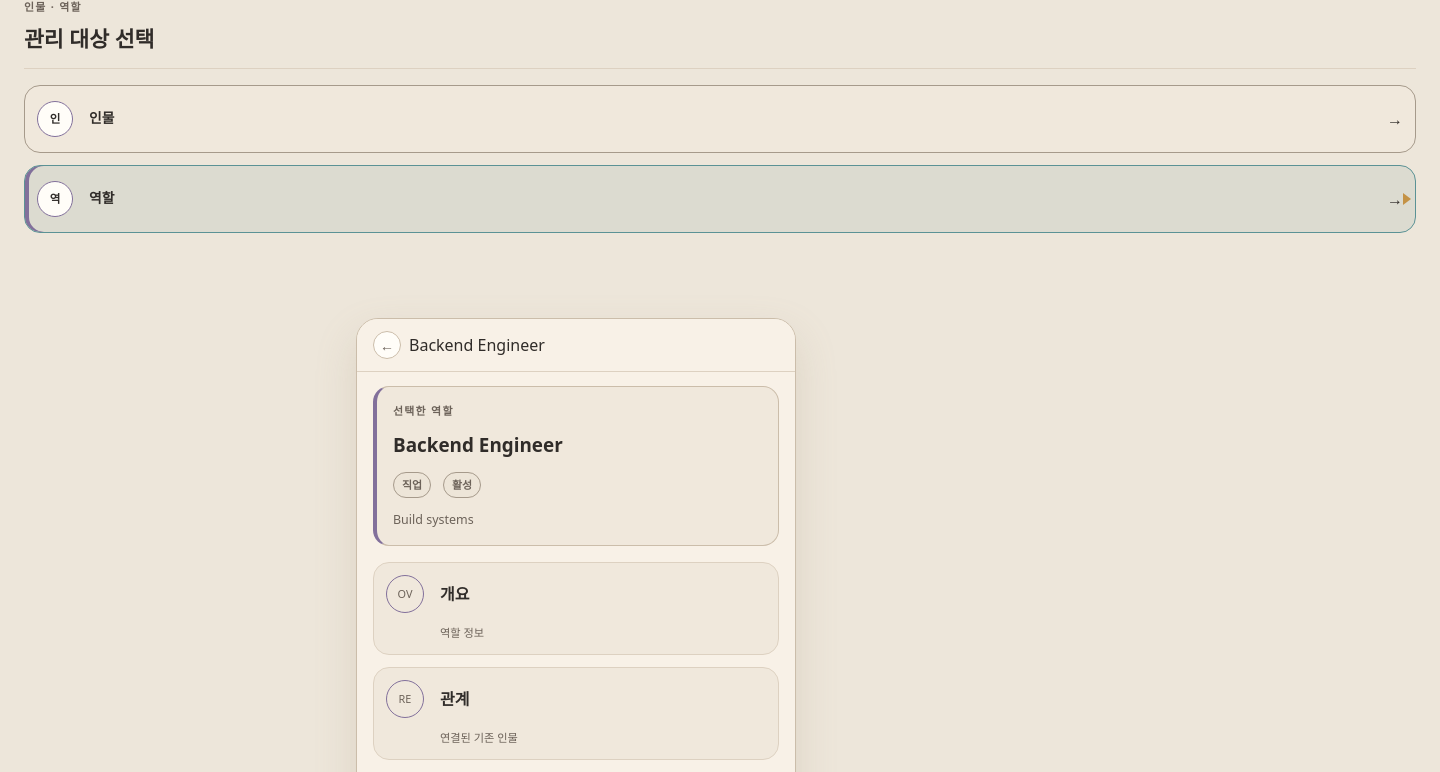
실제 Role shell을 사용할 때 › 개요·관계·일정 전환은 상위 frame을 유지하고 마지막 내용만 표시한다
Click the button "OV 개요 역할 정보": (405, 594) [373,562,779,655]
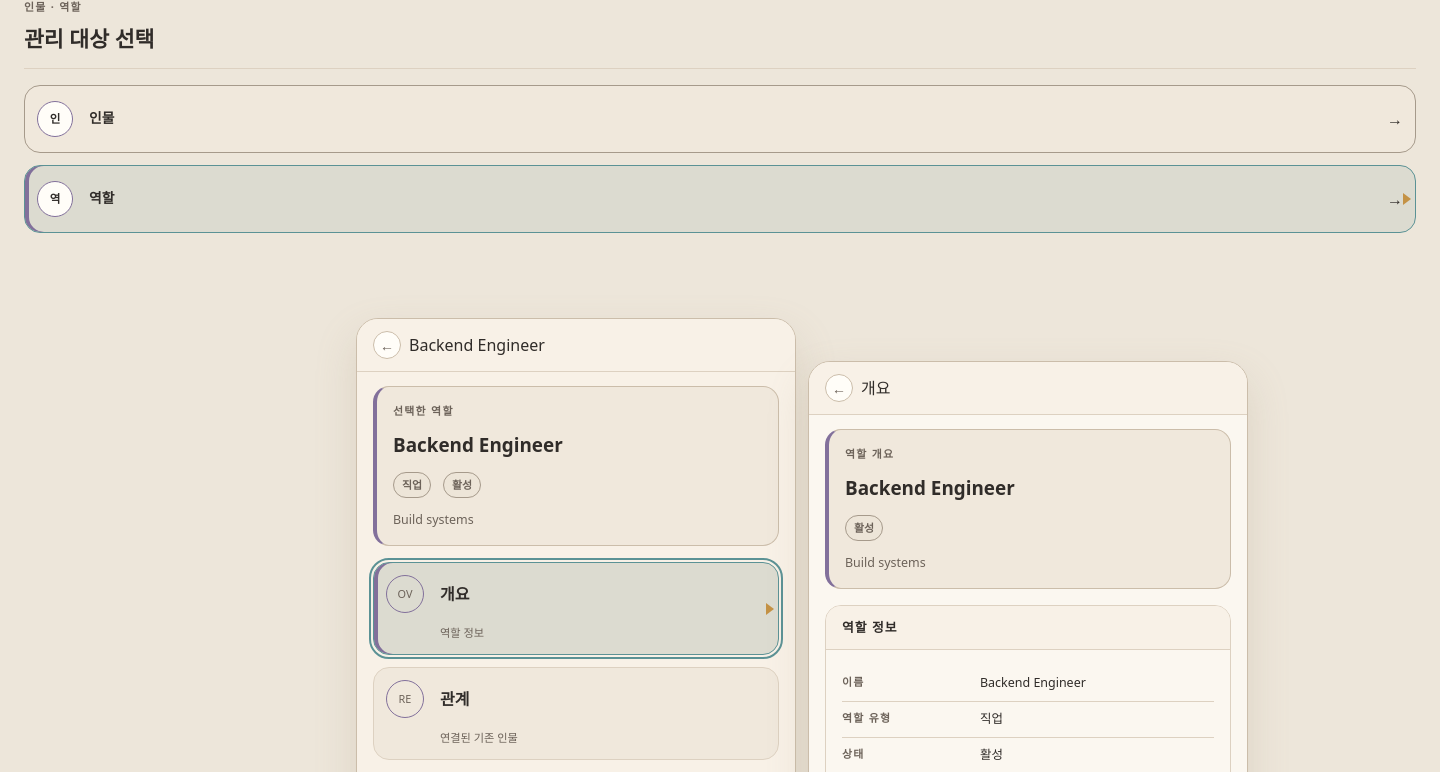
Click the button "RE 관계 연결된 기존 인물": (405, 699) [373,667,779,760]
(page scrolled)
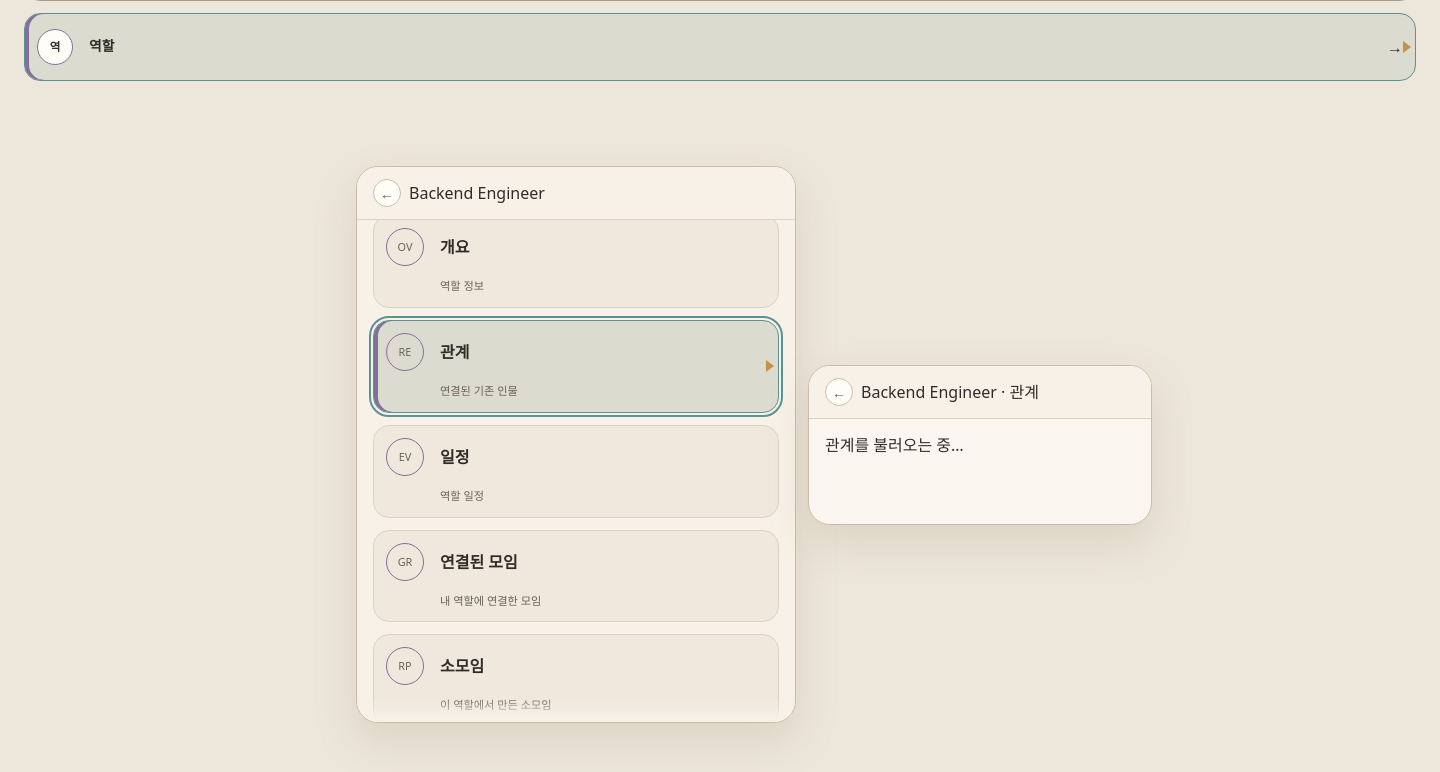
Click the button "EV 일정 역할 일정": (405, 457) [373,425,779,518]
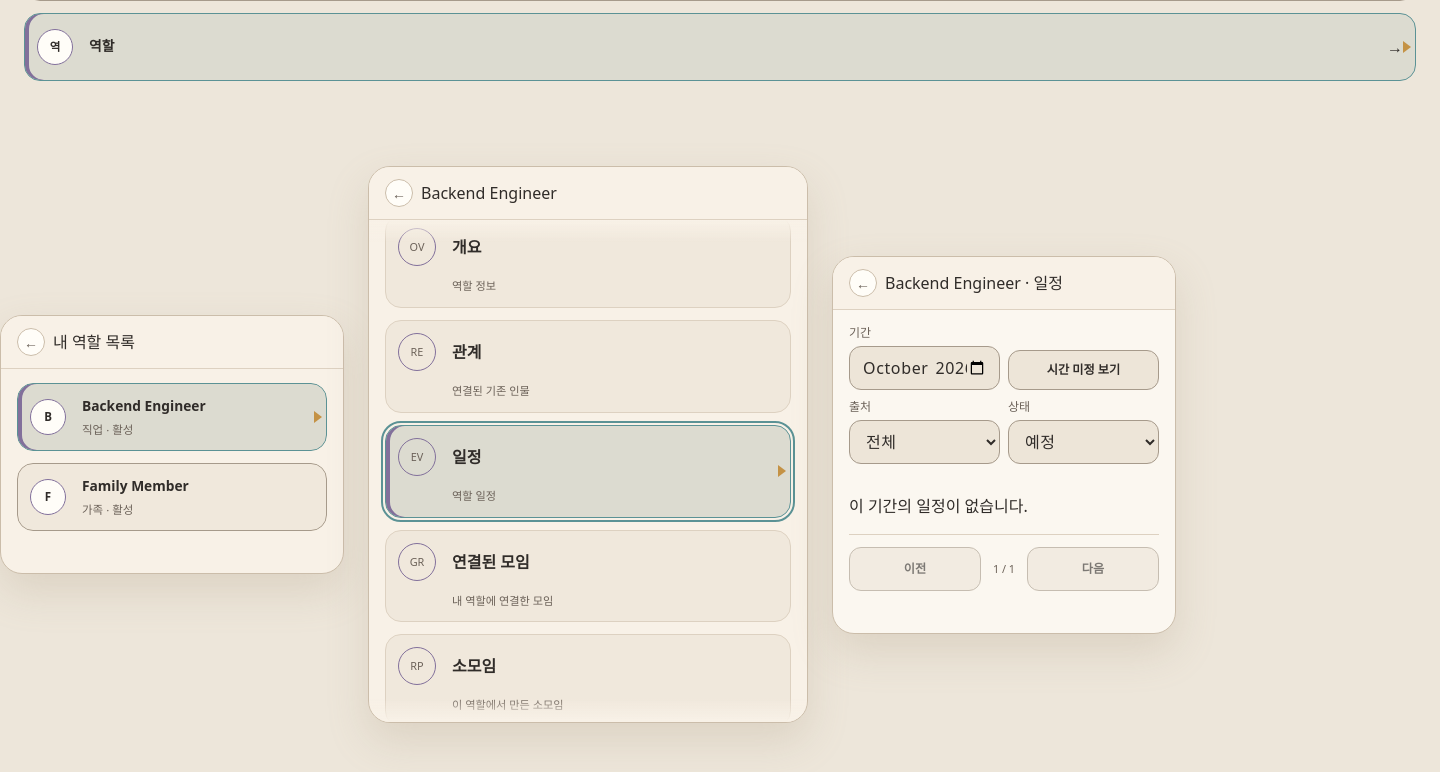
Result: the element that starts with "Backend Engineer · 일정" is shown at [885,272,1063,294]
